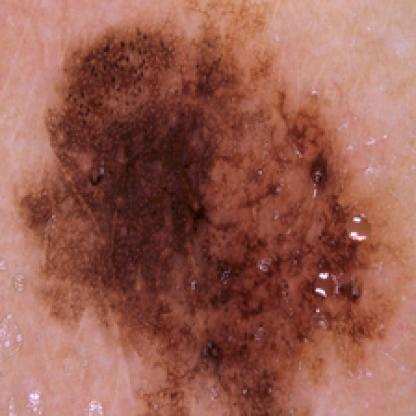Skin_Cancer-Malignant: (19, 9, 388, 416)
